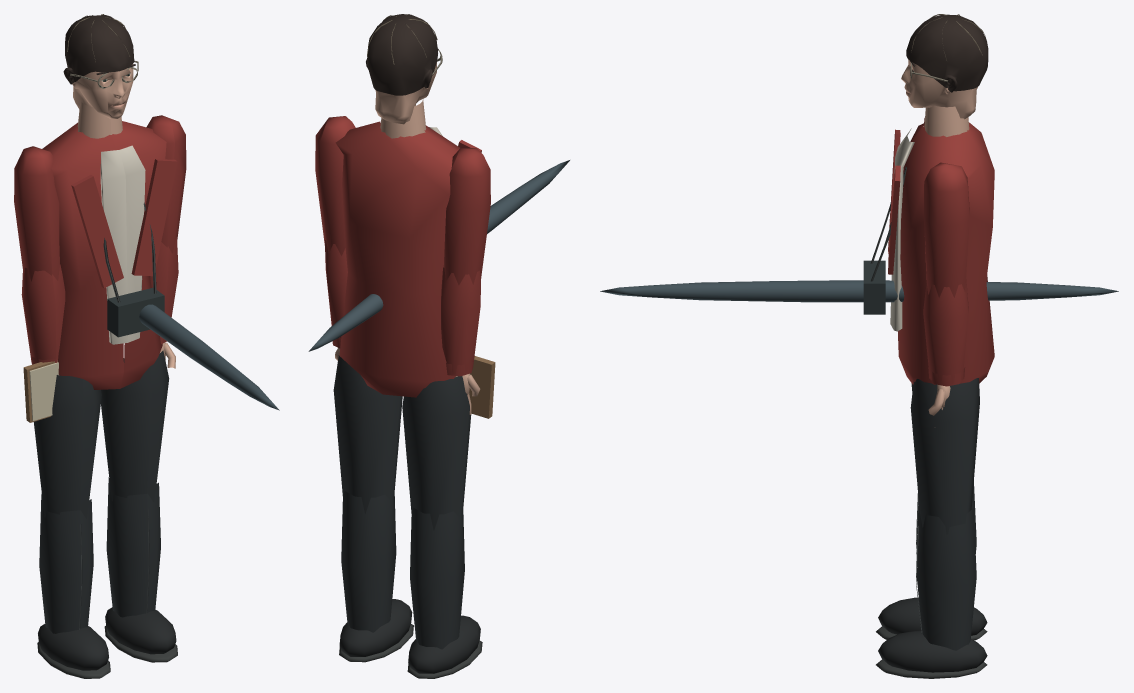
Rendered from karla-kolumna-lod.glb.
3 views of the same model, side by side, from view 1: azimuth 30°, elevation 25°; view 2: azimuth 150°, elevation 25°; view 3: azimuth 270°, elevation 25° (orthographic).
Parts seen in each view (by area): view 1: Torso, TrouserThigh (×2), TrouserCalf (×2), TailoredSleeve (×2), ShirtFront, Shoe (×2), Head, LeftForearm, CameraLens, AnatomicalFace, Camera, Sole (×2) (+4 smaller); view 2: Torso, TrouserThigh (×2), TrouserCalf (×2), TailoredSleeve (×2), Head, Shoe (×2), LeftForearm, CameraLens, RightForearm, AnatomicalFace, Notebook, Sole (×2) (+1 smaller); view 3: Torso, TrouserThigh, TrouserCalf, CameraLens, TailoredSleeve, Head, Shoe (×2), RightForearm, AnatomicalFace, ShirtFront, Camera, Neck (+1 smaller).
Boxes of the visible parts, x1=… form: Torso: x1=42, y1=121, x2=177, y2=389; TrouserThigh (×2): x1=33, y1=350, x2=169, y2=518; TrouserCalf (×2): x1=39, y1=477, x2=160, y2=633; TailoredSleeve (×2): x1=14, y1=115, x2=186, y2=281; ShirtFront: x1=100, y1=145, x2=145, y2=344; Shoe (×2): x1=38, y1=607, x2=176, y2=670; Head: x1=63, y1=14, x2=138, y2=88; LeftForearm: x1=21, y1=264, x2=65, y2=364; CameraLens: x1=139, y1=304, x2=279, y2=410; AnatomicalFace: x1=72, y1=63, x2=133, y2=118; Camera: x1=107, y1=288, x2=164, y2=337; Sole (×2): x1=37, y1=626, x2=177, y2=678; Torso: x1=335, y1=121, x2=481, y2=397; TrouserThigh (×2): x1=333, y1=355, x2=471, y2=530; TrouserCalf (×2): x1=341, y1=491, x2=464, y2=649; TailoredSleeve (×2): x1=315, y1=116, x2=490, y2=285; Head: x1=366, y1=14, x2=442, y2=95; Shoe (×2): x1=339, y1=599, x2=480, y2=673; LeftForearm: x1=441, y1=267, x2=480, y2=376; CameraLens: x1=308, y1=160, x2=569, y2=351; RightForearm: x1=324, y1=240, x2=347, y2=348; AnatomicalFace: x1=375, y1=62, x2=436, y2=124; Notebook: x1=469, y1=356, x2=495, y2=418; Sole (×2): x1=339, y1=624, x2=482, y2=678; Torso: x1=870, y1=122, x2=994, y2=384; TrouserThigh: x1=910, y1=378, x2=979, y2=534; TrouserCalf: x1=916, y1=508, x2=976, y2=650; CameraLens: x1=600, y1=280, x2=1118, y2=302; TailoredSleeve: x1=924, y1=162, x2=969, y2=297; Head: x1=906, y1=14, x2=988, y2=92; Shoe (×2): x1=878, y1=597, x2=987, y2=672; RightForearm: x1=923, y1=278, x2=968, y2=386; AnatomicalFace: x1=901, y1=59, x2=977, y2=119; ShirtFront: x1=890, y1=128, x2=914, y2=331; Camera: x1=863, y1=260, x2=885, y2=314; Neck: x1=924, y1=105, x2=969, y2=136.
Size of the model in its own units: 0.4759 by 1.76 by 1.3.
